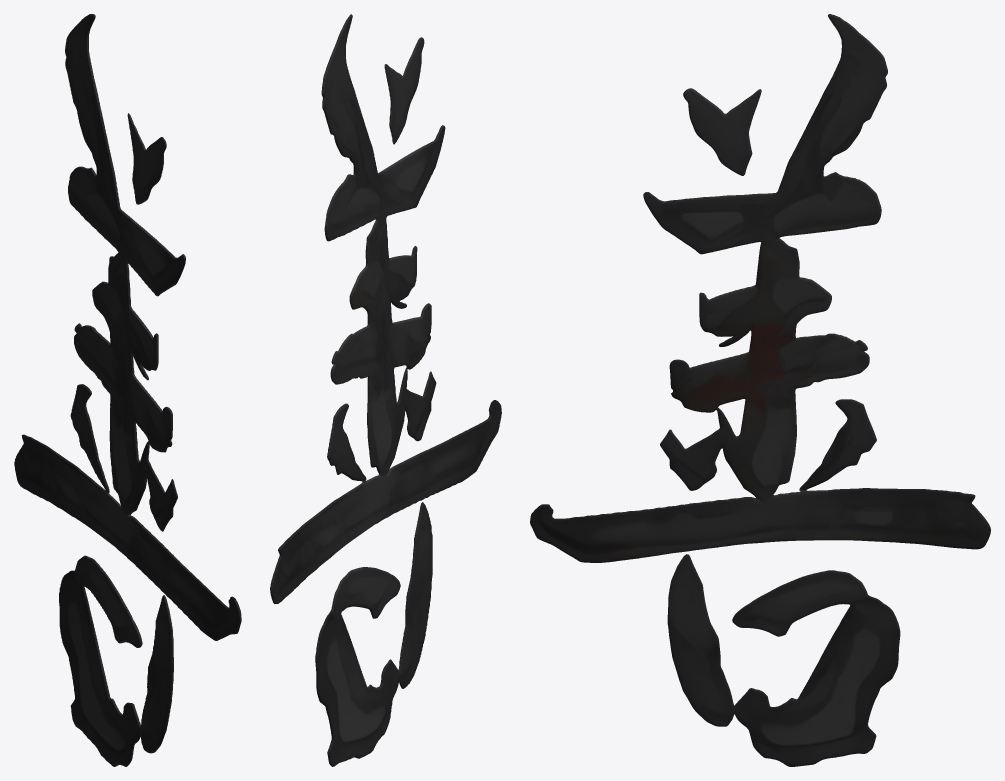
The picture shows the model from 3 angles, left to right: view 1: azimuth 30°, elevation 25°; view 2: azimuth 150°, elevation 25°; view 3: azimuth 270°, elevation 25°; orthographic projection. The views are drawn at different scales.
Visible parts, largest first — view 1: tripo_node_861e151f-98e9-4b64-8c56-a739db9b0880; view 2: tripo_node_861e151f-98e9-4b64-8c56-a739db9b0880; view 3: tripo_node_861e151f-98e9-4b64-8c56-a739db9b0880.
Part boxes in pixels (x1=…): tripo_node_861e151f-98e9-4b64-8c56-a739db9b0880: x1=14, y1=14, x2=241, y2=766; tripo_node_861e151f-98e9-4b64-8c56-a739db9b0880: x1=270, y1=14, x2=501, y2=766; tripo_node_861e151f-98e9-4b64-8c56-a739db9b0880: x1=530, y1=14, x2=990, y2=766.
Size of the model in its own units: 0.00451 by 1 by 0.5548.
Materials: 1 (1 with a texture image).
